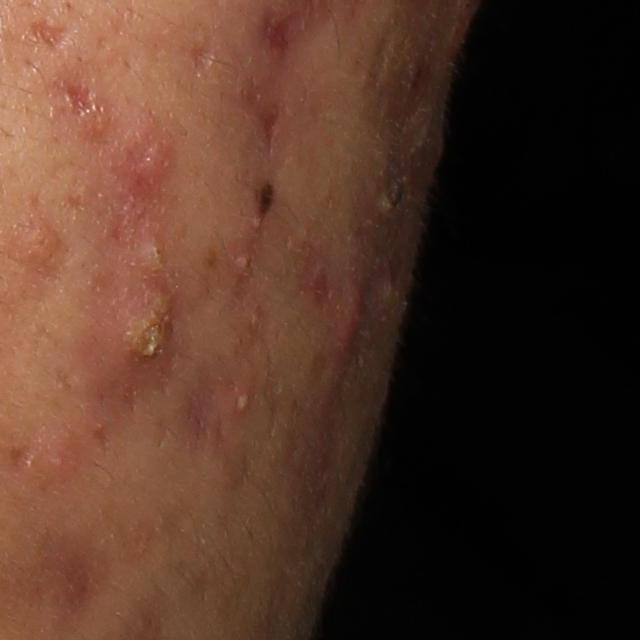atrophic_scar: (188, 351, 243, 439), (51, 65, 109, 131), (25, 10, 86, 47), (2, 428, 40, 481), (174, 32, 219, 75)
nevus: (256, 181, 278, 225)
nodule: (80, 275, 183, 406), (325, 254, 375, 369)
papule: (128, 135, 168, 200), (12, 218, 69, 263)
pustule: (365, 166, 413, 234), (128, 221, 174, 278), (229, 385, 255, 417), (230, 249, 255, 271)
